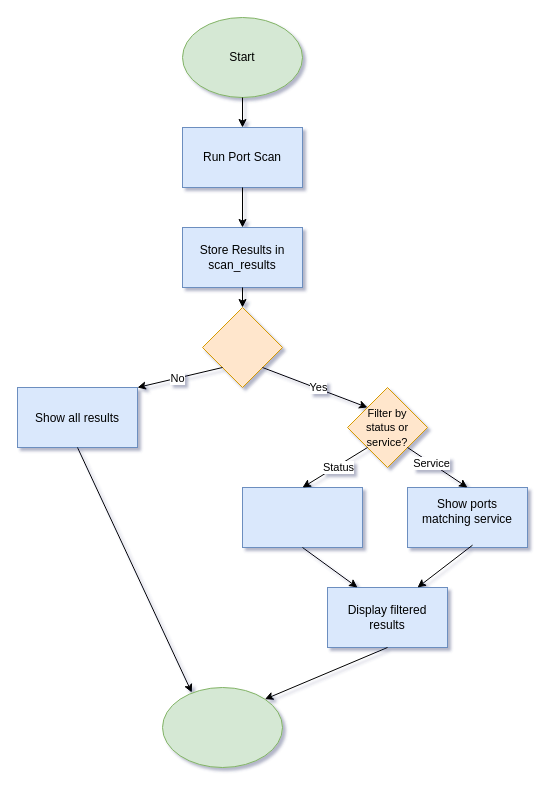
This 551x791 diagram has some shape labels left out. The centre of each missing label's shape, as x and y in pixels:
"End" goes at [222,727].
"Filter results?" goes at [242,347].
"Show ports matching status" goes at [302,517].
